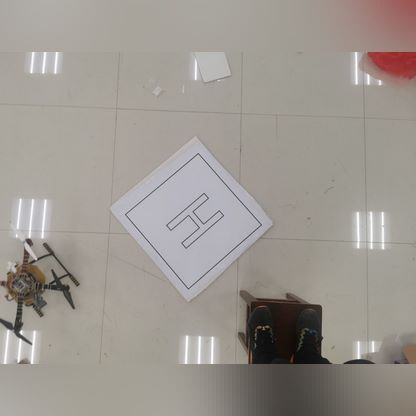H: (159, 179, 227, 256)
